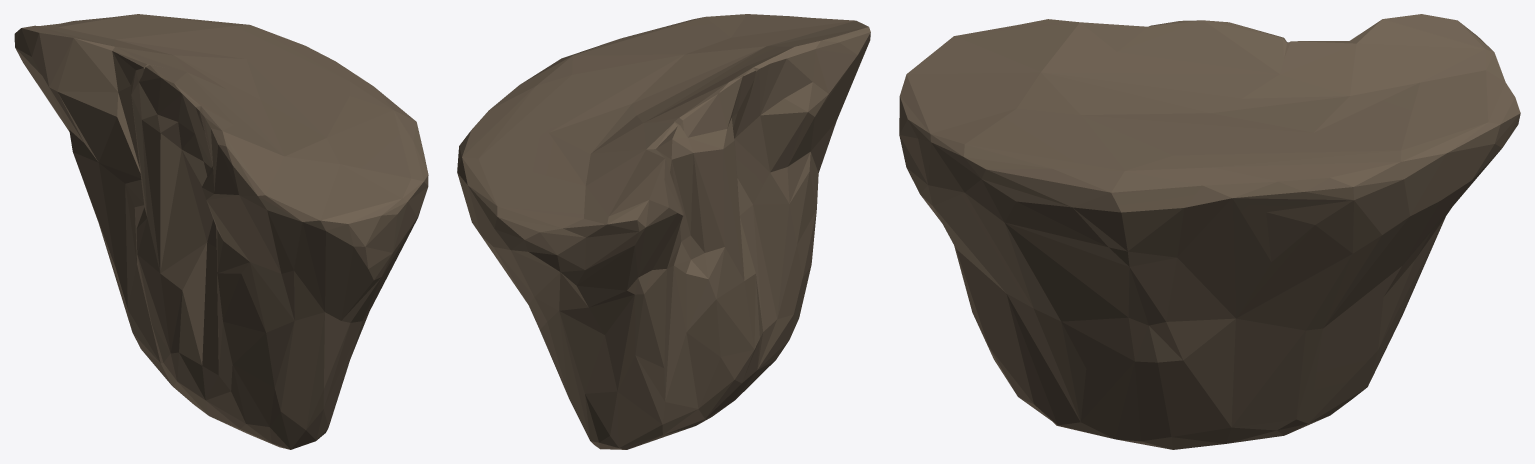
Rendered from desert_SM_Env_Rock_Cliff_15.gltf.
3 renders of one model, left to right at view 1: azimuth 30°, elevation 25°; view 2: azimuth 150°, elevation 25°; view 3: azimuth 270°, elevation 25°, orthographic. The views are drawn at different scales.
Parts seen in each view (by area): view 1: SM_Env_Rock_Cliff_15; view 2: SM_Env_Rock_Cliff_15; view 3: SM_Env_Rock_Cliff_15.
Part boxes in pixels (x1,y1,x2,y2): SM_Env_Rock_Cliff_15: (14,14,428,449); SM_Env_Rock_Cliff_15: (457,14,870,449); SM_Env_Rock_Cliff_15: (899,14,1520,449).
Bounding box in the file's own units: 9.48 × 12.31 × 18.39.
1 material, 1 textured.
